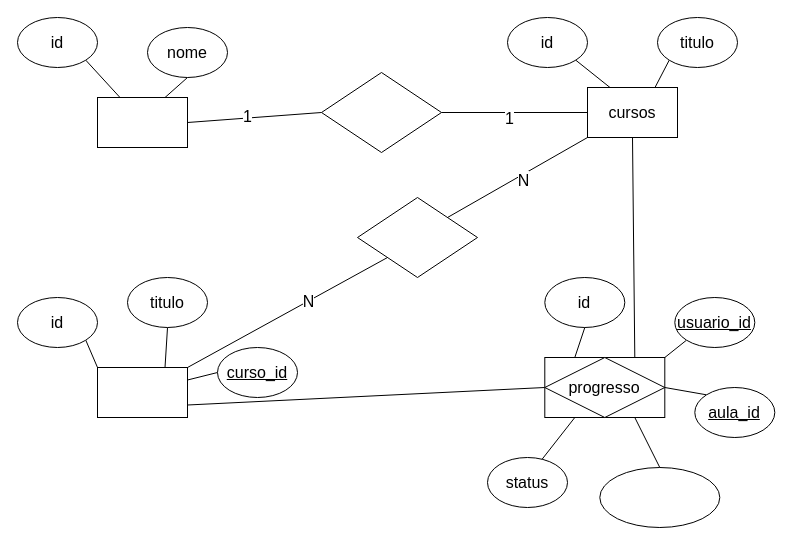
The diagram is 793 pixels wide and 545 high, and some of its shapes have lost their labels. Here are the shapes that lost their labels. From the top down, the box of each, then its label:
(96, 96, 188, 148): usuarios
(320, 72, 442, 152): faz
(356, 196, 478, 278): tem
(96, 366, 188, 418): aulas
(599, 466, 720, 528): data_conclusao
